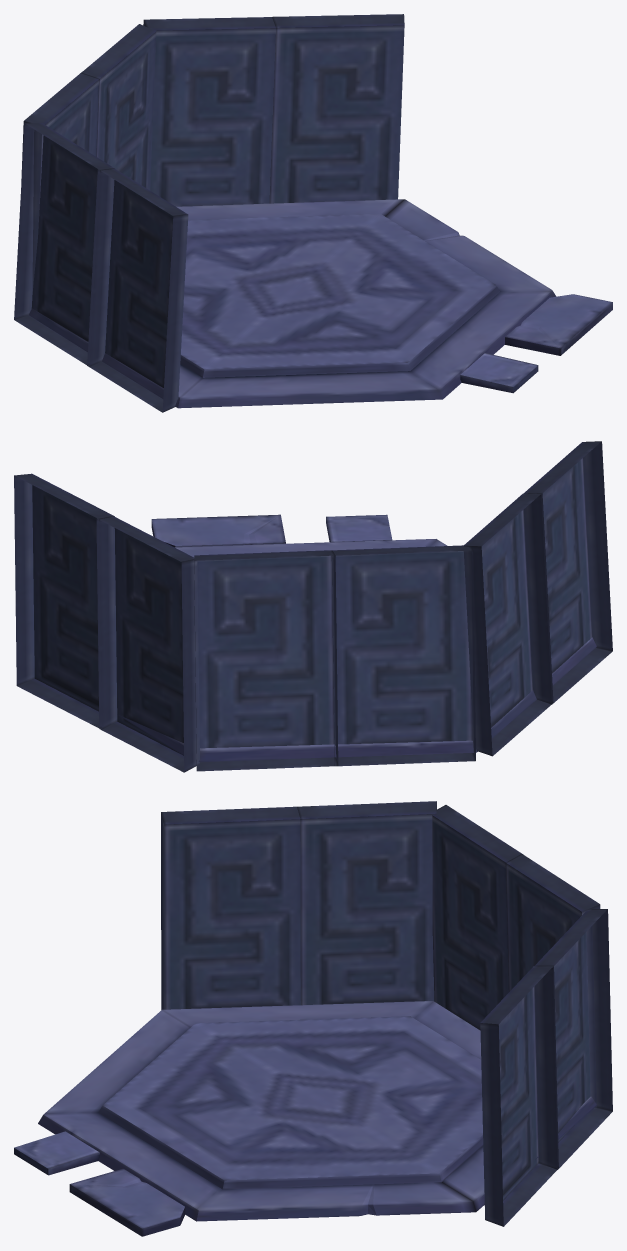
Rendered from Area12_19.fbx.
The picture shows the model from 3 angles, top to bottom: view 1: azimuth 30°, elevation 25°; view 2: azimuth 150°, elevation 25°; view 3: azimuth 270°, elevation 25°; orthographic projection. The views are drawn at different scales.
Visible parts, largest first — view 1: Area12_19; view 2: Area12_19; view 3: Area12_19.
Part boxes in pixels (bbox=[...]): Area12_19: bbox=[14, 14, 612, 412]; Area12_19: bbox=[14, 441, 612, 772]; Area12_19: bbox=[14, 801, 612, 1236].
Bounding box in the file's own units: 1741 × 747 × 1863.
